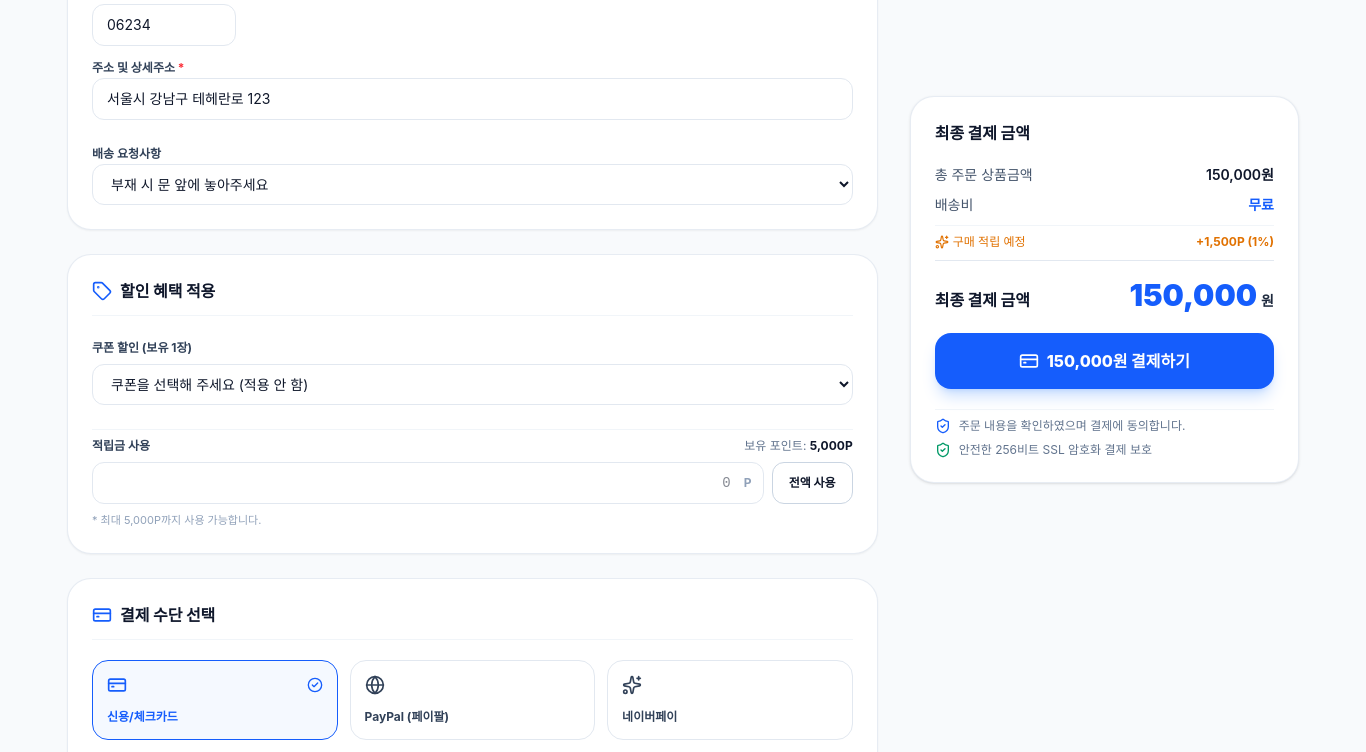
Scenario: CheckoutViewer Component › 쿠폰을 선택하면 할인 금액이 실시간으로 차감 계산된다
The width and height of the screenshot is (1366, 752).
(page scrolled)
# 첫번째 select (쿠폰 선택)
Select "10,000원 주말 특가 쿠폰 (-10,000원 할인)" in the dropdown showing "쿠폰을 선택해 주세요 (적용 안 함)" at (472, 384), box [92,364,853,405]
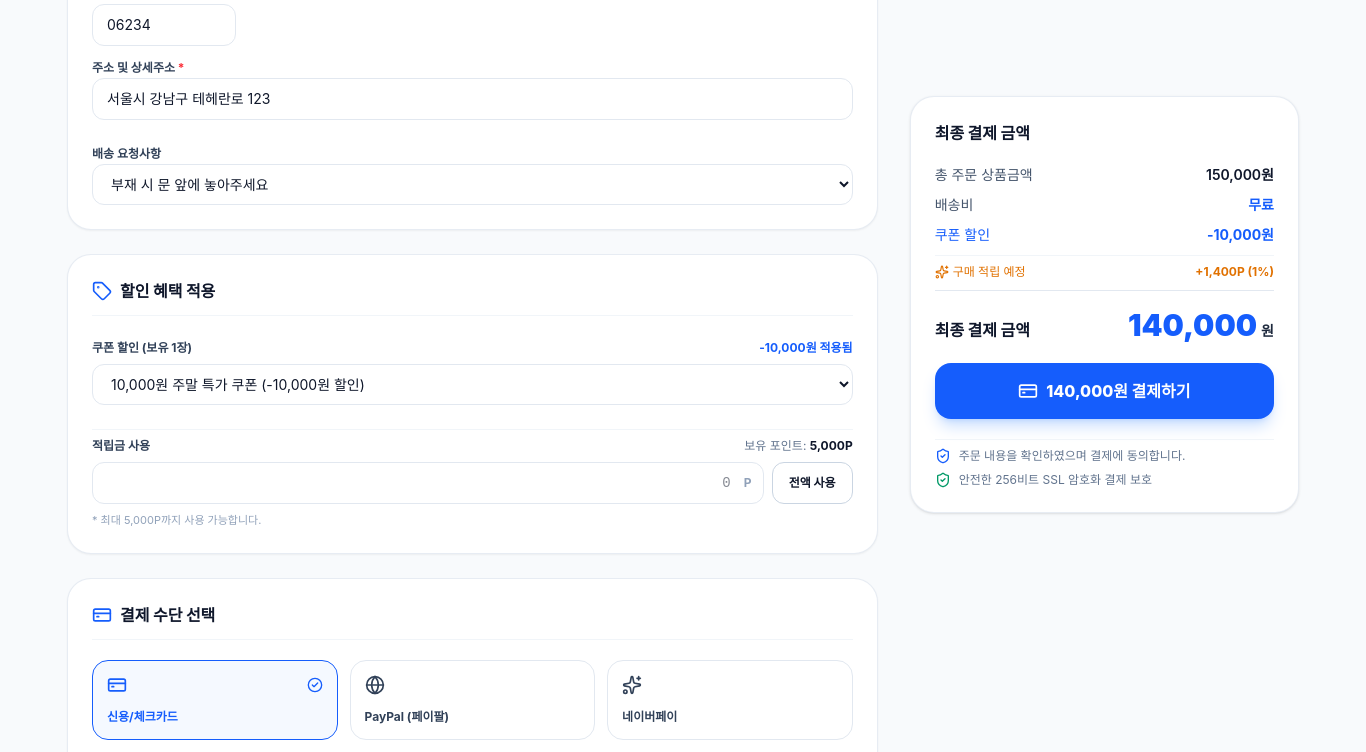
Expected: the text "140,000원 결제하기" is shown, [1046,379,1190,403]
Expected: the text "-10,000원 적용됨" is shown, [759,340,853,356]
